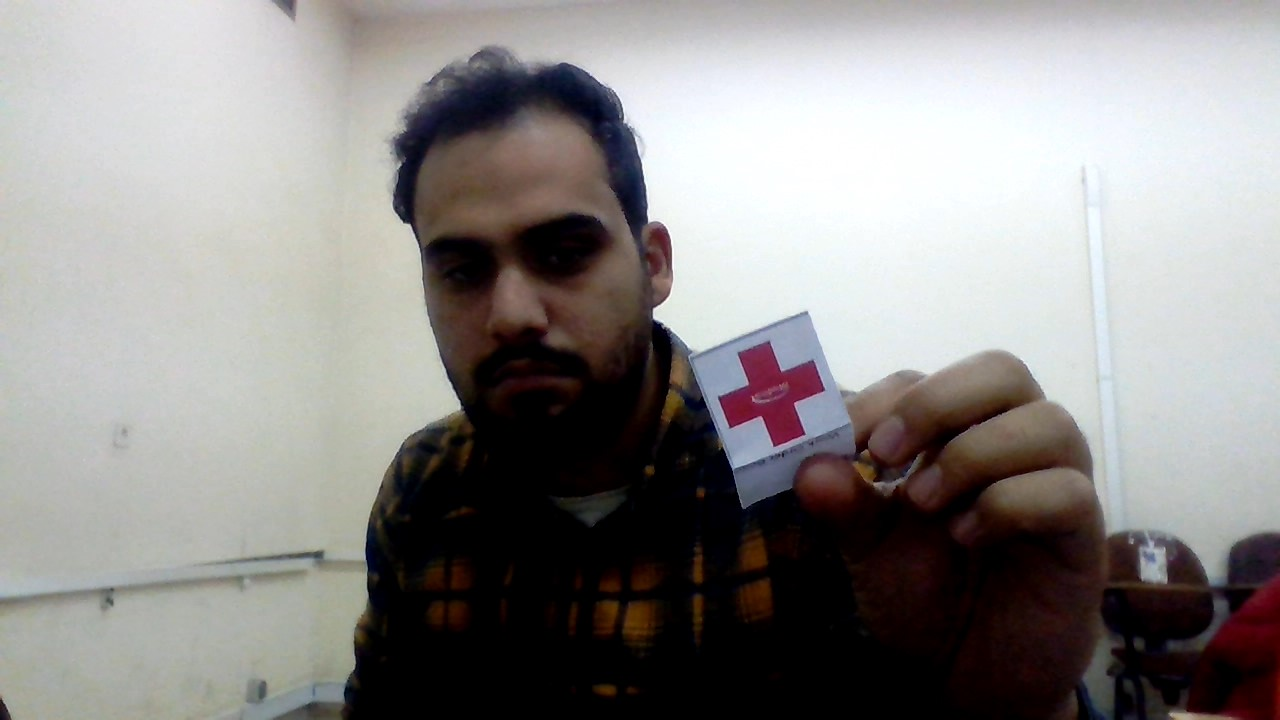wmc: (715, 342, 827, 450)
